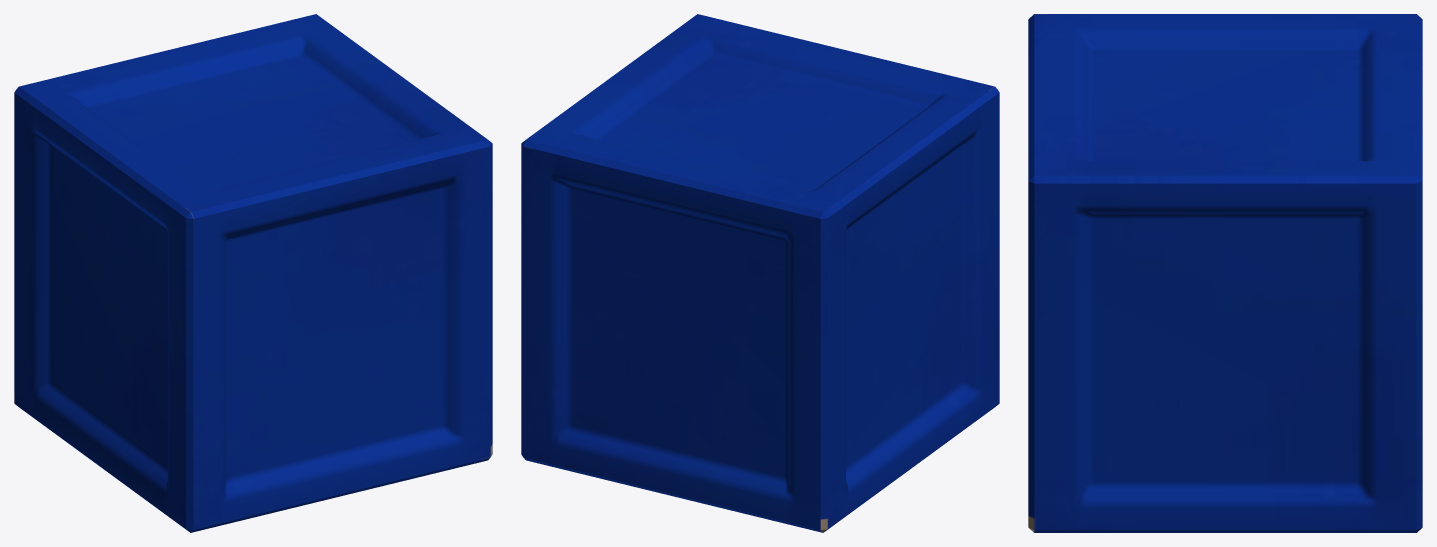
Rendered from bbox.fbx.
3 renders of one model, left to right at view 1: azimuth 30°, elevation 25°; view 2: azimuth 150°, elevation 25°; view 3: azimuth 270°, elevation 25°, orthographic. The views are drawn at different scales.
Visible parts, largest first — view 1: pCube163; view 2: pCube163; view 3: pCube163.
Boxes of the visible parts, box(x1,y1,x2,y2) form: pCube163: box(14, 14, 492, 532); pCube163: box(521, 14, 999, 532); pCube163: box(1028, 14, 1422, 532).
Bounding box in the file's own units: 53.81 × 53.81 × 53.81.
